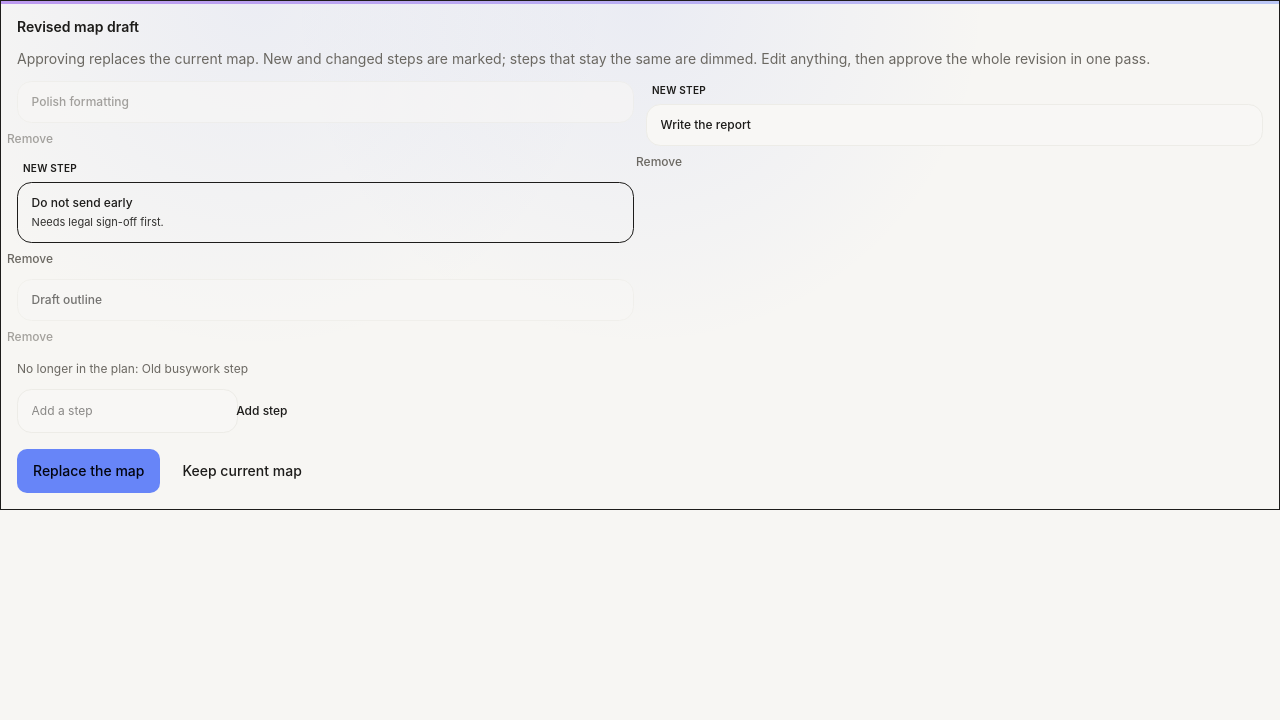
Test: TaskMapDraftReview diff mode › tracks the owner's live edits — retitling an unchanged step flips it to changed
Replace the text in the field with test id "taskmap-draft-edit-req-1" with "Draft the full outline": coordinates (326, 300) [17, 279, 634, 321]
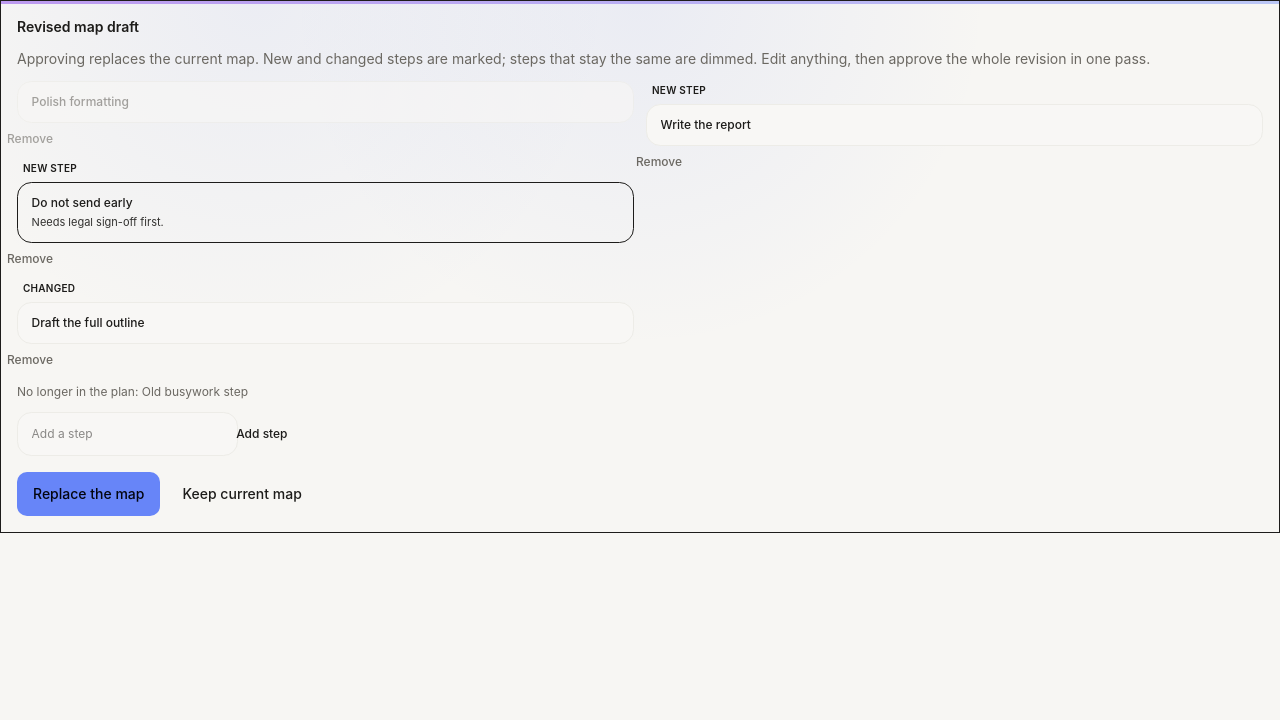
Expected: the text with test id "taskmap-diff-badge-req-1" reads "Changed", [23, 282, 75, 294]
